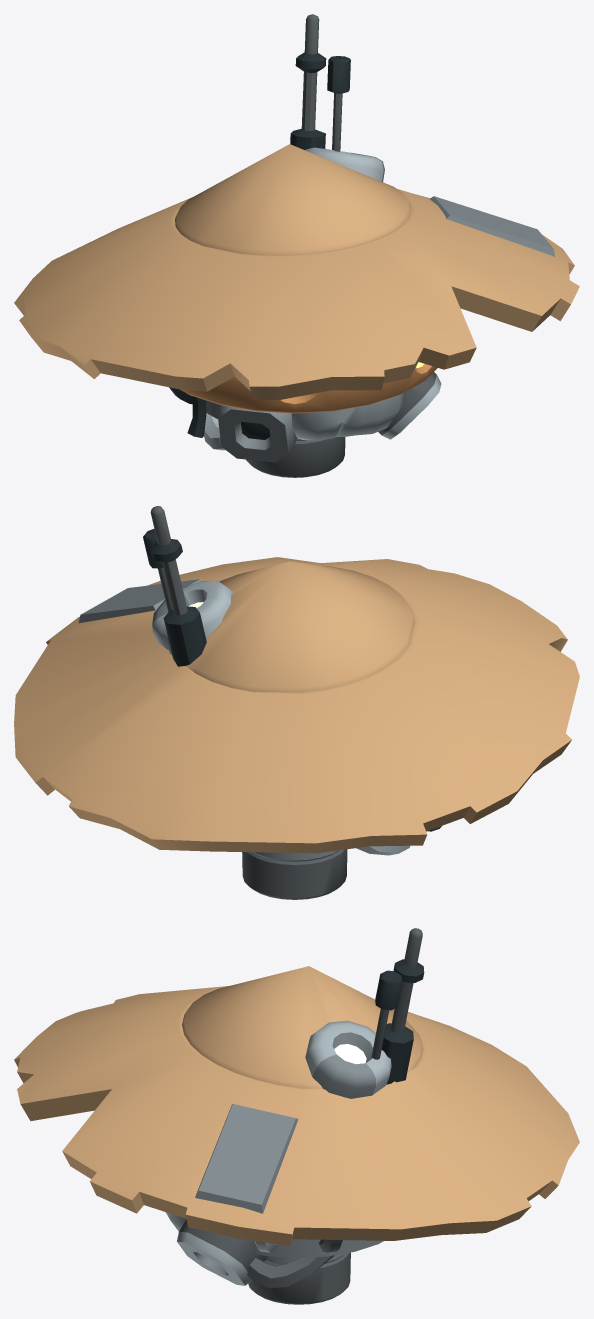
Rendered from character_scrapbot_headHat.gltf.
The picture shows the model from 3 angles, top to bottom: view 1: azimuth 30°, elevation 25°; view 2: azimuth 150°, elevation 25°; view 3: azimuth 270°, elevation 25°; orthographic projection. The views are drawn at different scales.
Visible parts, largest first — view 1: character_scrapbot_headHat, Cube.243; view 2: character_scrapbot_headHat; view 3: character_scrapbot_headHat.
Part boxes in pixels (box(x1,y1,x2,y2)): character_scrapbot_headHat: box(14, 14, 579, 477); Cube.243: box(291, 392, 405, 440); character_scrapbot_headHat: box(14, 506, 579, 899); character_scrapbot_headHat: box(14, 928, 579, 1304).
Size of the model in its own units: 1.78 by 1.35 by 1.76.
